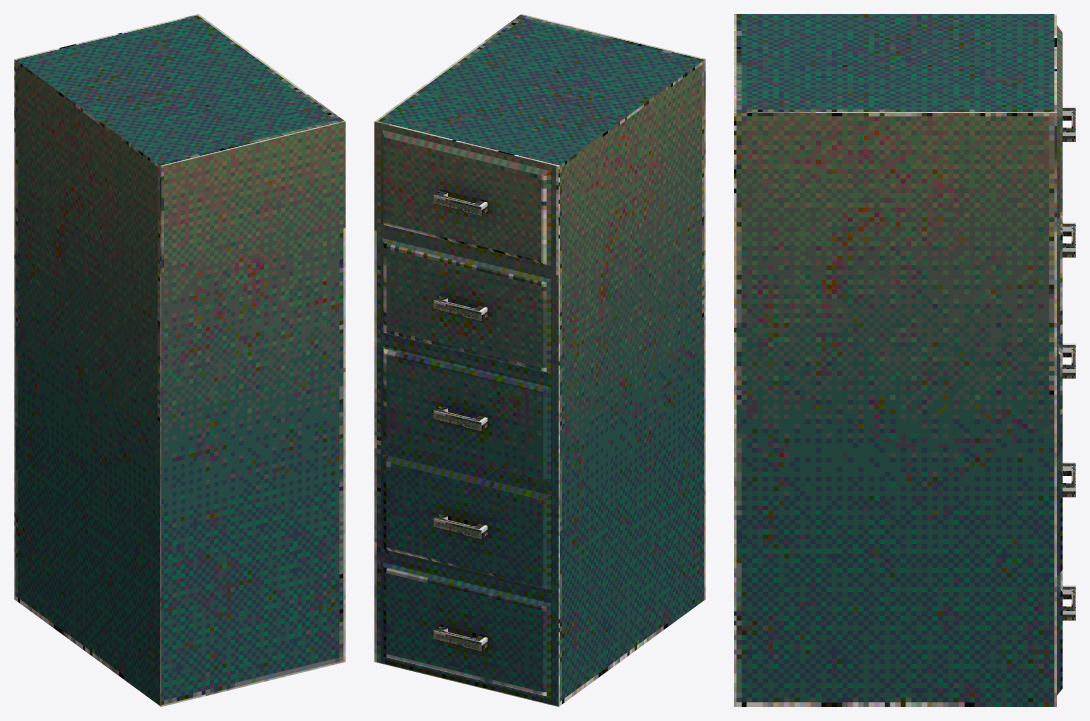
File: estanteria_grande.fbx
The picture shows the model from 3 angles, left to right: view 1: azimuth 30°, elevation 25°; view 2: azimuth 150°, elevation 25°; view 3: azimuth 270°, elevation 25°; orthographic projection. The views are drawn at different scales.
Parts seen in each view (by area): view 1: polySurface24; view 2: polySurface24; view 3: polySurface24.
Boxes of the visible parts, x1,y1,x2,y2 form: polySurface24: (14, 14, 345, 706); polySurface24: (374, 14, 705, 706); polySurface24: (734, 14, 1075, 706).
Bounding box in the file's own units: 2.22 × 6.21 × 3.24.
